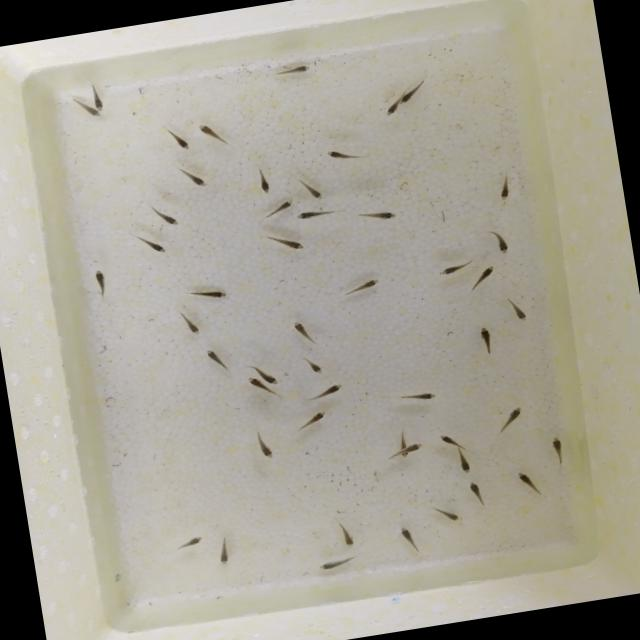fingerling: (511, 463, 549, 503), (179, 280, 233, 308), (350, 204, 408, 230), (339, 272, 388, 300), (175, 162, 215, 196), (195, 114, 230, 152), (146, 199, 184, 234), (503, 292, 538, 330), (494, 401, 530, 437), (197, 342, 235, 376), (392, 520, 426, 558), (268, 230, 314, 258), (160, 122, 195, 158), (394, 382, 442, 408), (314, 550, 362, 576), (471, 320, 502, 360), (426, 498, 466, 529), (288, 314, 322, 350), (170, 308, 208, 340), (464, 264, 502, 296), (266, 60, 318, 83), (482, 226, 518, 259), (292, 202, 339, 227), (247, 428, 279, 464), (545, 431, 574, 470), (303, 380, 347, 405), (462, 477, 494, 511), (294, 406, 332, 434), (428, 258, 476, 280), (88, 264, 116, 301), (435, 428, 474, 454), (140, 232, 172, 262), (298, 173, 328, 204), (322, 144, 364, 166), (250, 163, 277, 197), (300, 350, 330, 380), (258, 198, 297, 221), (172, 532, 210, 554), (334, 520, 360, 552), (494, 172, 518, 206), (396, 81, 428, 106), (213, 536, 235, 570), (455, 451, 475, 478), (243, 373, 264, 391), (262, 370, 282, 388), (382, 102, 401, 120), (406, 440, 426, 456), (93, 95, 106, 112), (88, 109, 102, 119)
